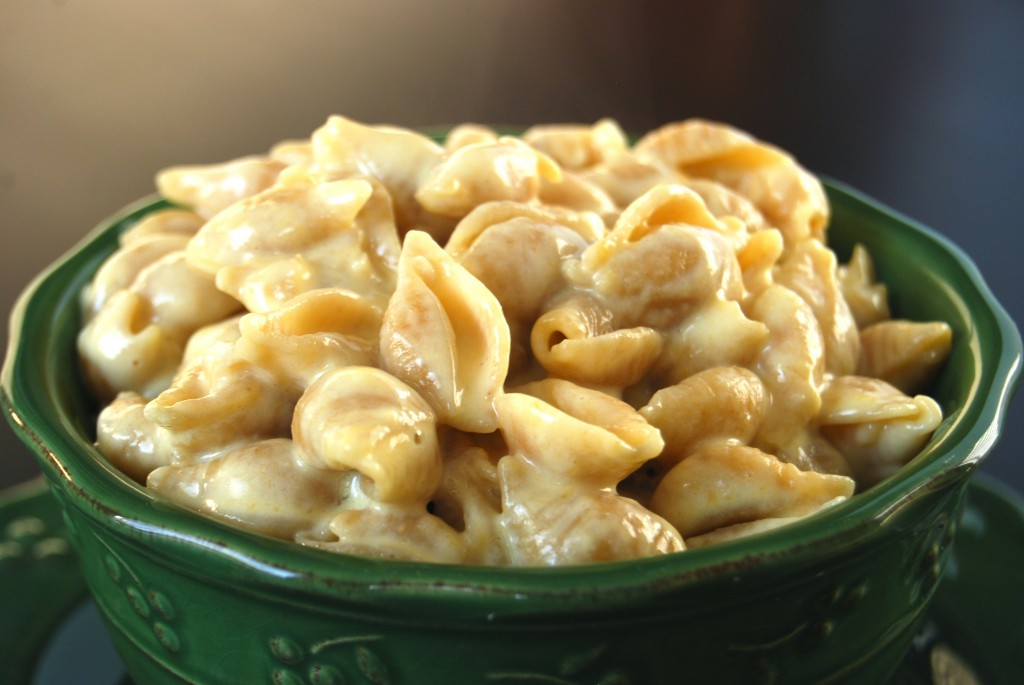macncheese: (91, 115, 962, 571)
